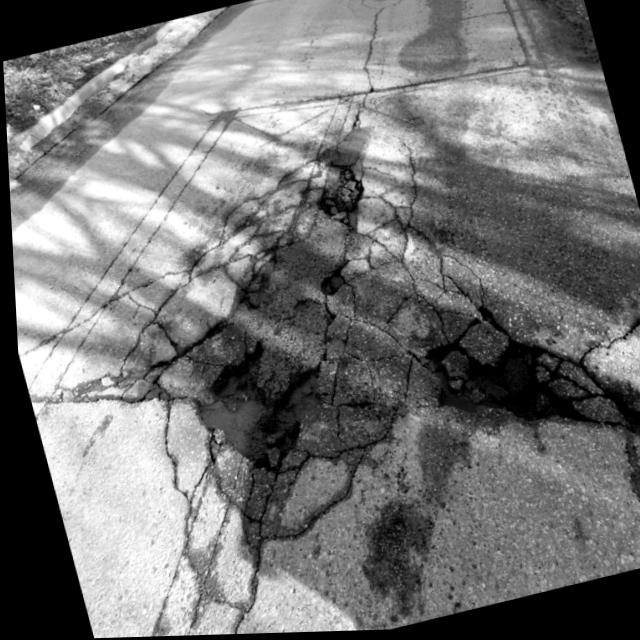pathole: (9, 70, 640, 638)
